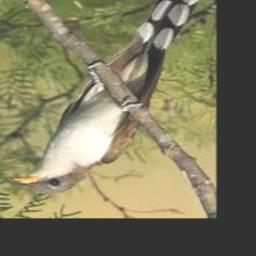Cuckoo: (10, 0, 201, 194)
